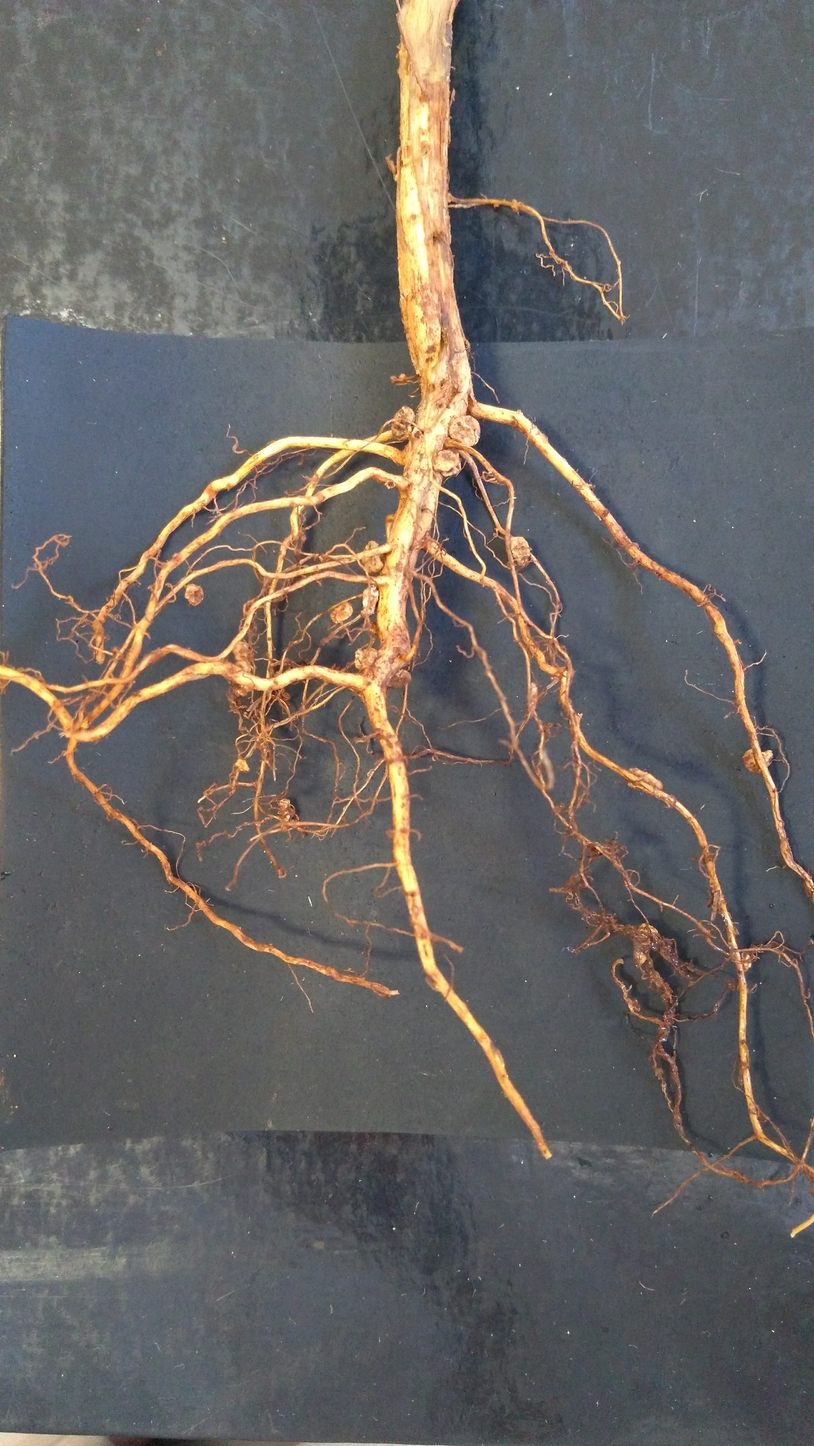nodule: (631, 919, 662, 973), (385, 402, 423, 443), (446, 412, 483, 448), (740, 746, 778, 778), (625, 764, 665, 793), (357, 539, 386, 577), (432, 449, 463, 477), (230, 660, 254, 696), (358, 584, 383, 618), (509, 535, 532, 569), (353, 645, 380, 673), (327, 600, 354, 625), (386, 667, 413, 690), (184, 583, 205, 609), (231, 641, 252, 662), (740, 949, 753, 976), (388, 372, 410, 387), (234, 758, 252, 776), (278, 797, 292, 808)
